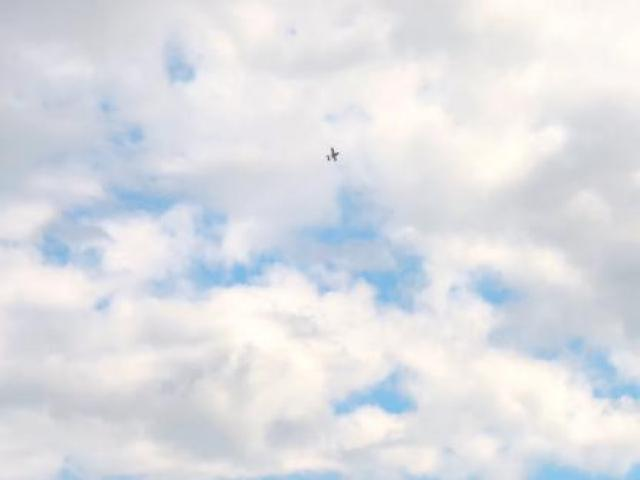uav: (325, 143, 341, 169)
